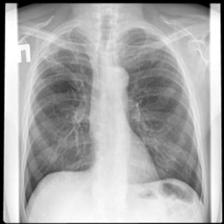tuberculosis: (19, 23, 206, 224)
